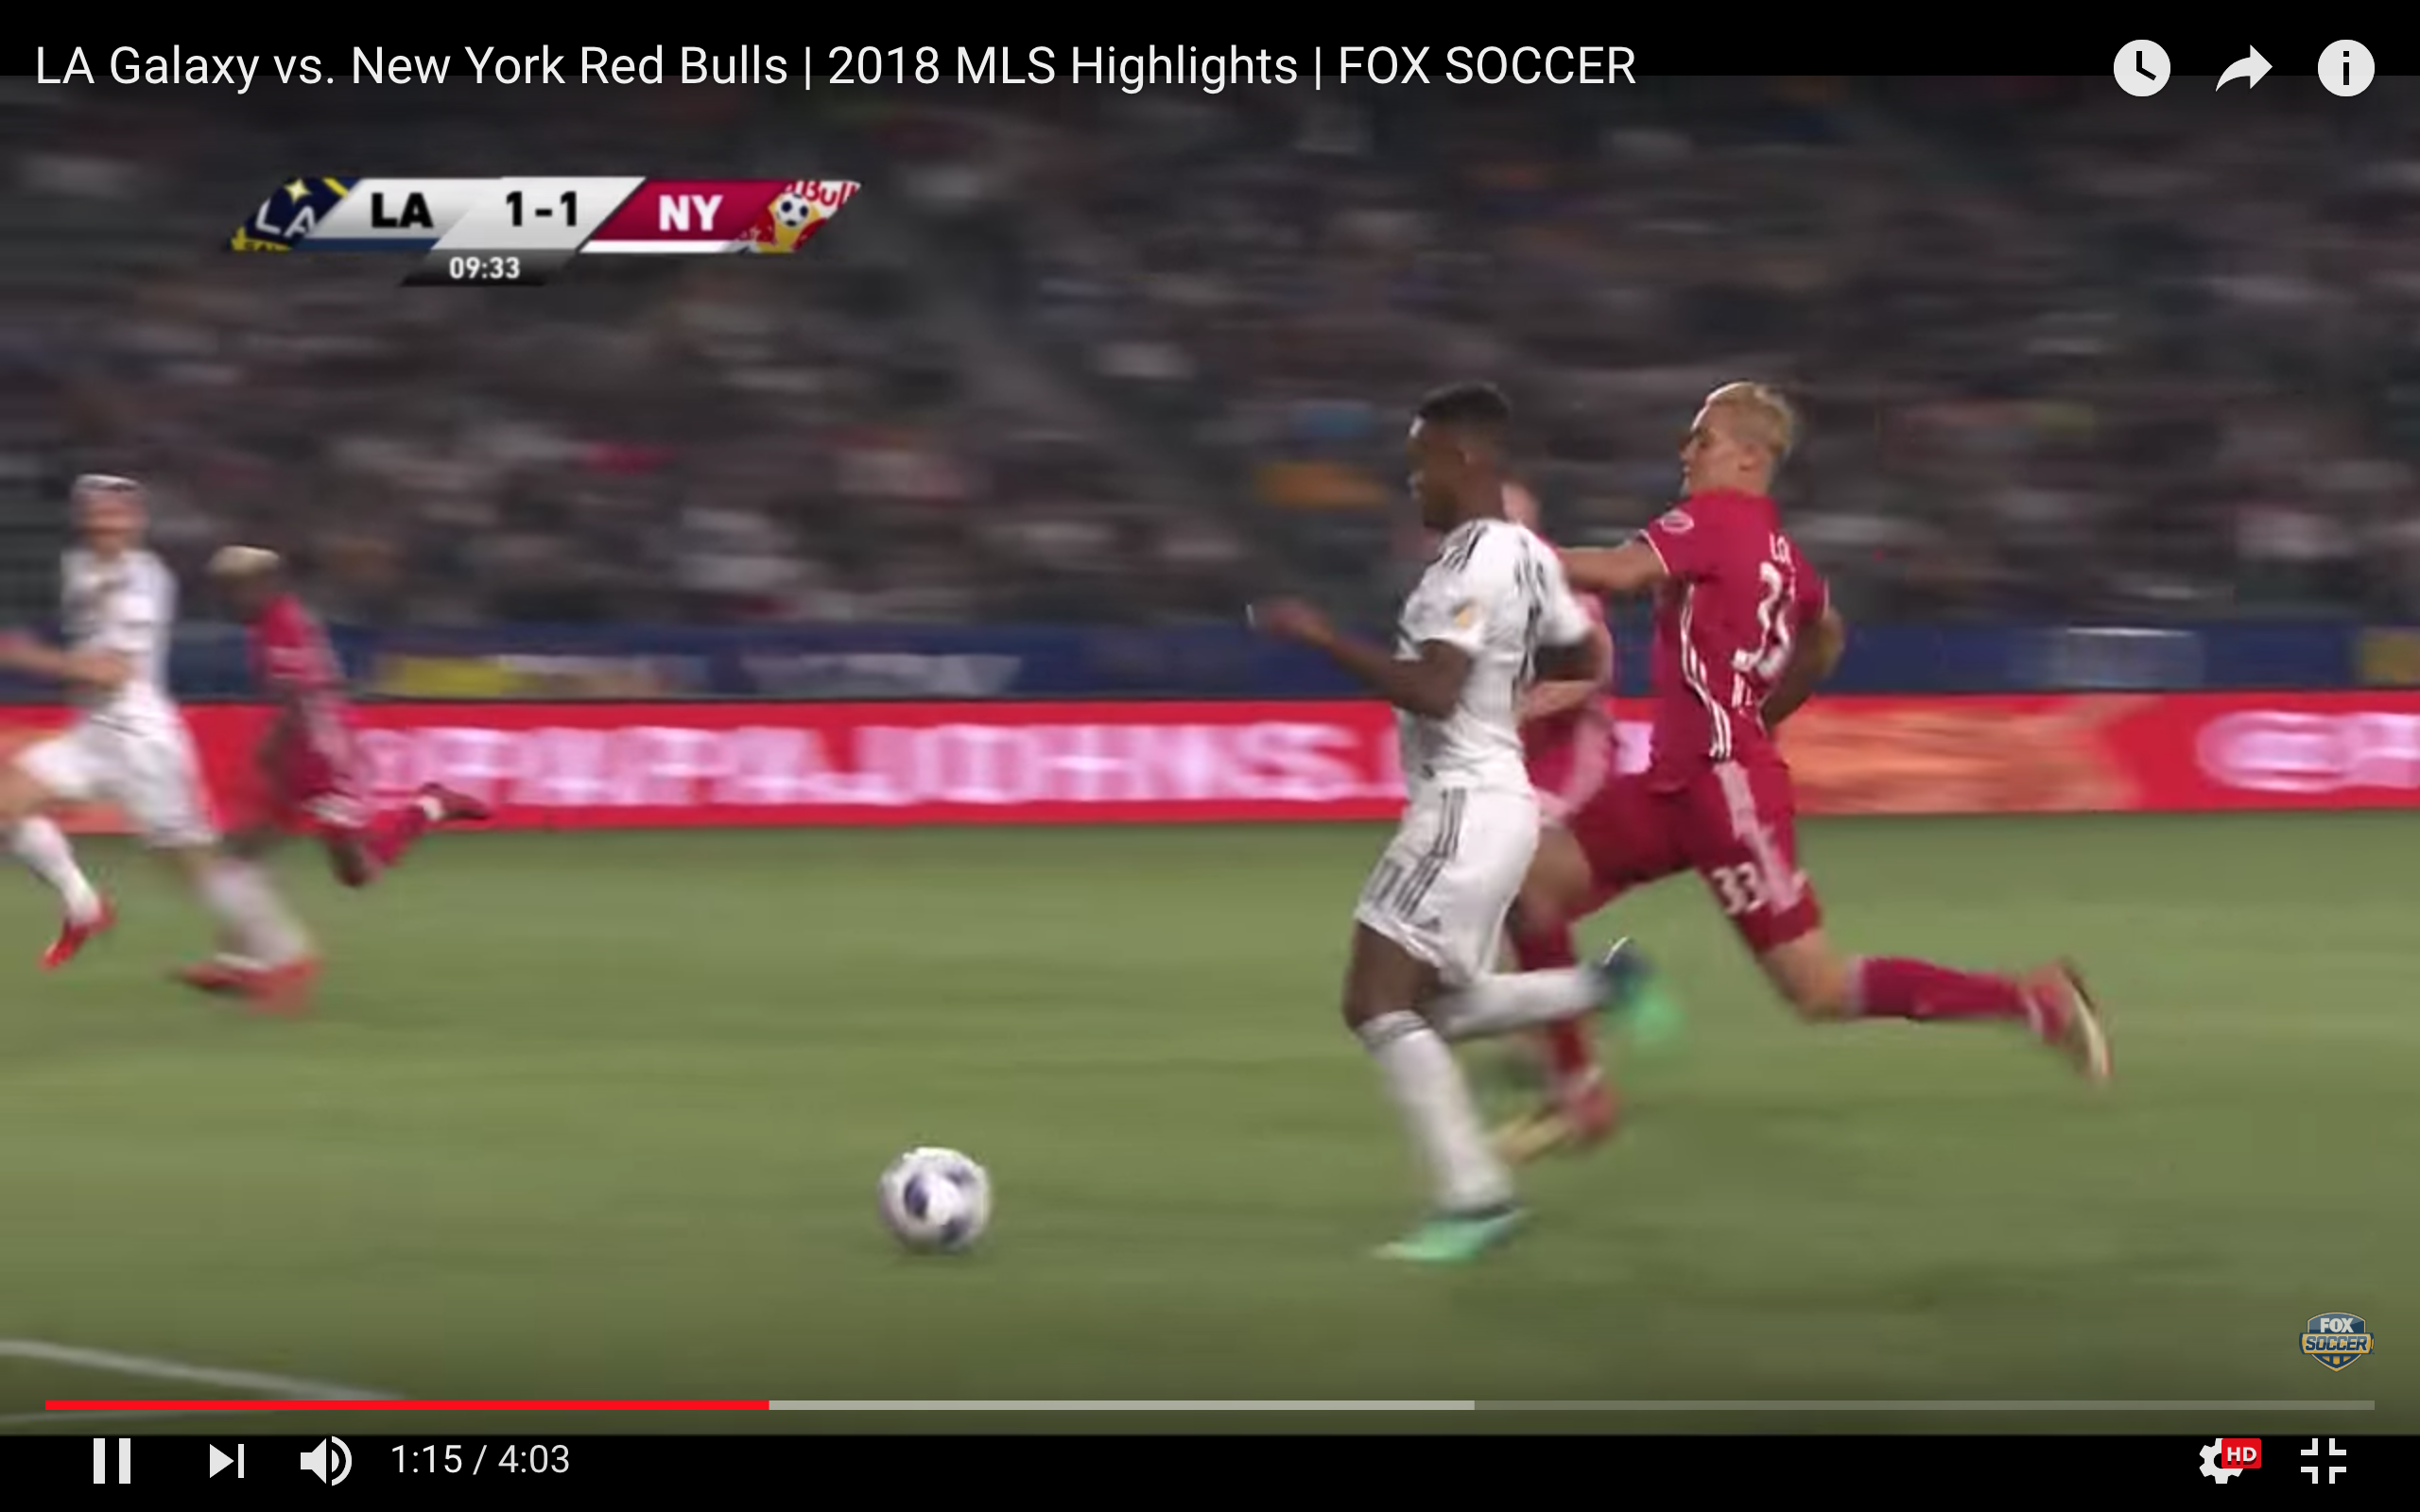soccer player: (1499, 339, 2151, 1169), (1221, 350, 1619, 1297), (2, 464, 337, 1021), (212, 528, 441, 903)
soccerball: (871, 1136, 1004, 1271)
